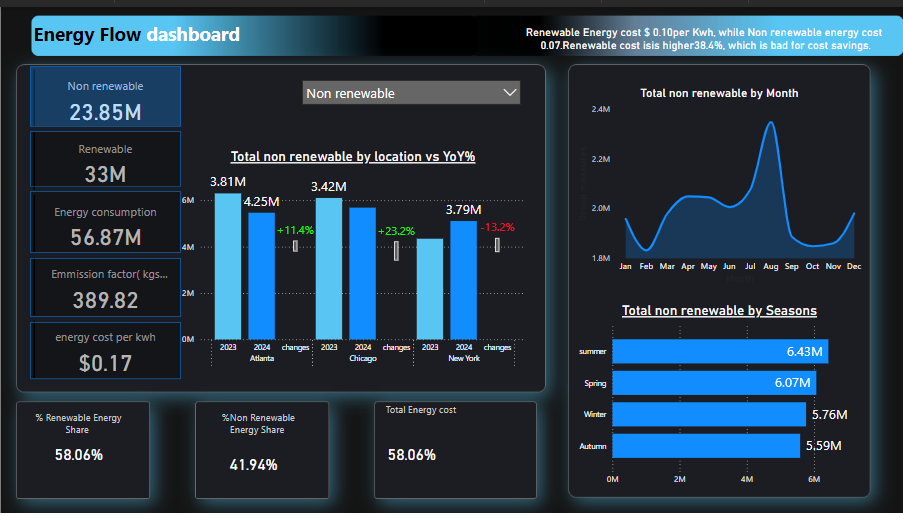

Layout of this report page (visuals, bound fields, positions):
{"tool":"powerbi","page":{"name":"Page 1","canvas":[1280,720],"ordinal":0},"visuals":[{"type":"cardVisual","fields":{"Data":["DAX crib.Total non renewable","DAX crib.Total renewable","DAX crib.Total energy consumption","DAX crib.Emmission factor( kgs co2)","DAX crib.energy cost per kwh"]},"box":[42.5,83.6,214,449.3],"z":0},{"type":"shape","box":[42.5,446.5,214,81],"z":1000},{"type":"slicer","fields":{"Values":["Switchable measures .Switchable measures "]},"box":[418.1,93.5,330.2,76.5],"z":2000},{"type":"columnChart","fields":{"Category":["Data.Location","year table.Year"],"Y":["year table.YoY change"]},"box":[252.3,199.8,496.1,320.3],"z":3000},{"type":"card","fields":{"Values":["DAX crib.% renewable energy share"]},"box":[42.5,593.9,137.5,79.4],"z":4000},{"type":"textbox","box":[35.4,568.3,151.7,51],"z":5000},{"type":"textbox","box":[290.6,568.3,151.7,51],"z":6000},{"type":"textbox","box":[532.9,557,134.6,51],"z":7000},{"type":"card","fields":{"Values":["DAX crib.% Non renewable share"]},"box":[290.6,608,137.5,79.4],"z":8000},{"type":"card","fields":{"Values":["DAX crib.% renewable energy share"]},"box":[514.5,593.9,137.5,79.4],"z":9000},{"type":"lineChart","fields":{"Category":["Calendar.Month"],"Y":["Switchable measures .Group measures"]},"box":[812.1,112,415.3,286.3],"z":10000},{"type":"clusteredBarChart","fields":{"Category":["Calendar.Seasons"],"Y":["Switchable measures .Group measures"]},"box":[812.1,418.1,415.3,269.3],"z":11000},{"type":"textbox","box":[42.5,14.2,348.7,55.3],"z":12000},{"type":"shape","box":[42.5,355.7,214,83.6],"z":13000},{"type":"shape","box":[42.5,260.8,214,87.9],"z":14000},{"type":"shape","box":[42.5,175.7,214,79.4],"z":15000},{"type":"shape","box":[42.5,83.6,214,86.5],"z":16000},{"type":"card","fields":{"Values":["DAX crib.Energy cost summary"]},"box":[720,14.2,559.8,62.4],"z":17000}]}

Visuals, with their boxes in screenshot pixels (x1, y1, x2, y2), scaled from the page's 1280x720 canvas onto the 903x515 screenshot:
cardVisual - DAX crib.Total non renewable x DAX crib.Total renewable: x1=30, y1=60, x2=181, y2=381
shape: x1=30, y1=319, x2=181, y2=377
slicer - Switchable measures .Switchable measures : x1=295, y1=67, x2=528, y2=122
columnChart - Data.Location x year table.Year: x1=178, y1=143, x2=528, y2=372
card - DAX crib.% renewable energy share: x1=30, y1=425, x2=127, y2=482
textbox: x1=25, y1=406, x2=132, y2=443
textbox: x1=205, y1=406, x2=312, y2=443
textbox: x1=376, y1=398, x2=471, y2=435
card - DAX crib.% Non renewable share: x1=205, y1=435, x2=302, y2=492
card - DAX crib.% renewable energy share: x1=363, y1=425, x2=460, y2=482
lineChart - Calendar.Month x Switchable measures .Group measures: x1=573, y1=80, x2=866, y2=285
clusteredBarChart - Calendar.Seasons x Switchable measures .Group measures: x1=573, y1=299, x2=866, y2=492
textbox: x1=30, y1=10, x2=276, y2=50
shape: x1=30, y1=254, x2=181, y2=314
shape: x1=30, y1=187, x2=181, y2=249
shape: x1=30, y1=126, x2=181, y2=182
shape: x1=30, y1=60, x2=181, y2=122
card - DAX crib.Energy cost summary: x1=508, y1=10, x2=902, y2=55
